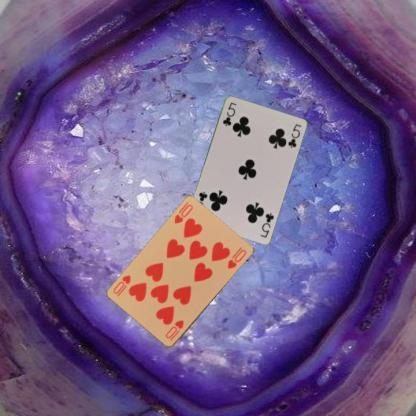10h: (162, 318, 186, 342), (172, 202, 194, 226)
5c: (258, 209, 276, 238), (220, 99, 238, 127)
